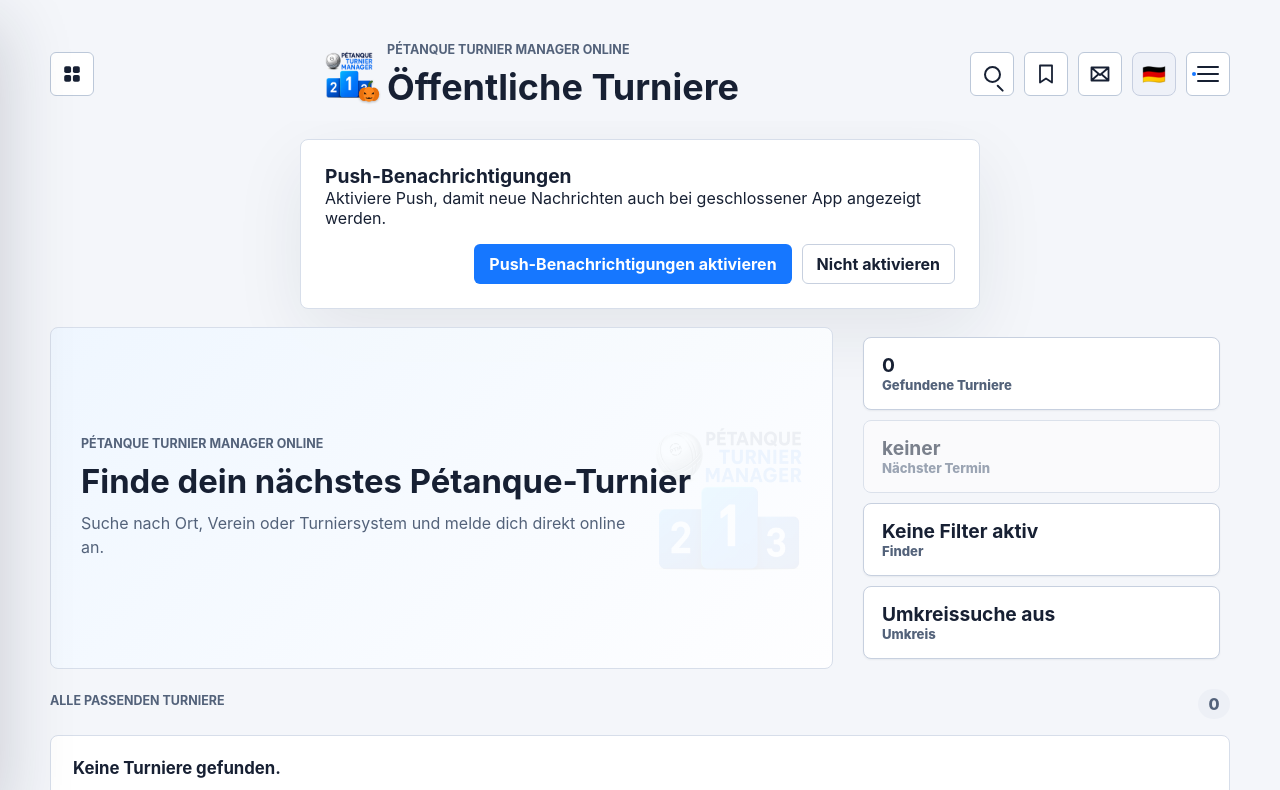
Test: Profil und Gelesen-Markierung der Postbox › markiert erst geladene Nachrichten einschließlich gesendeter Kopien und fragt die Postbox dafür nicht erneut ab
Click the button named "Postbox".
click(1100, 74)  # box top-left (1078, 52), bottom-right (1122, 96)
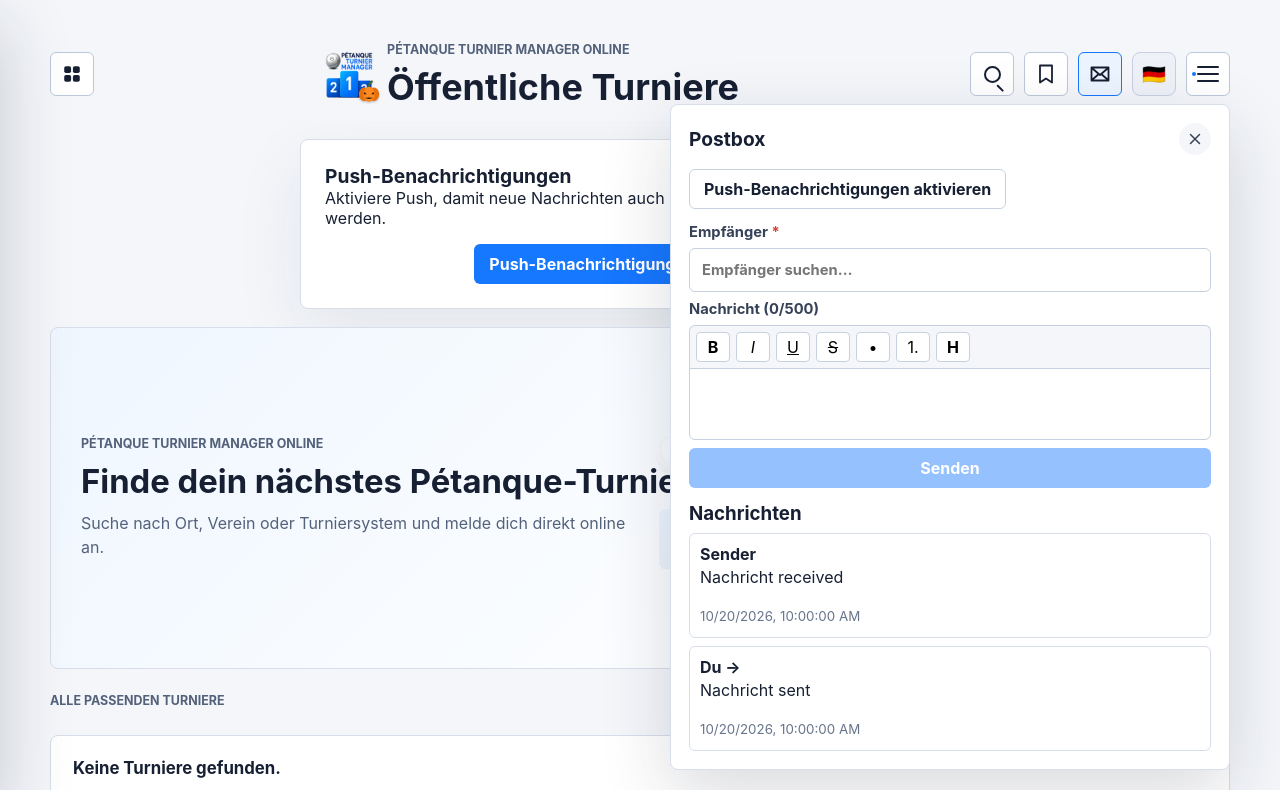
Now the text "Nachricht received" is shown, box top-left (700, 567), bottom-right (843, 587)
